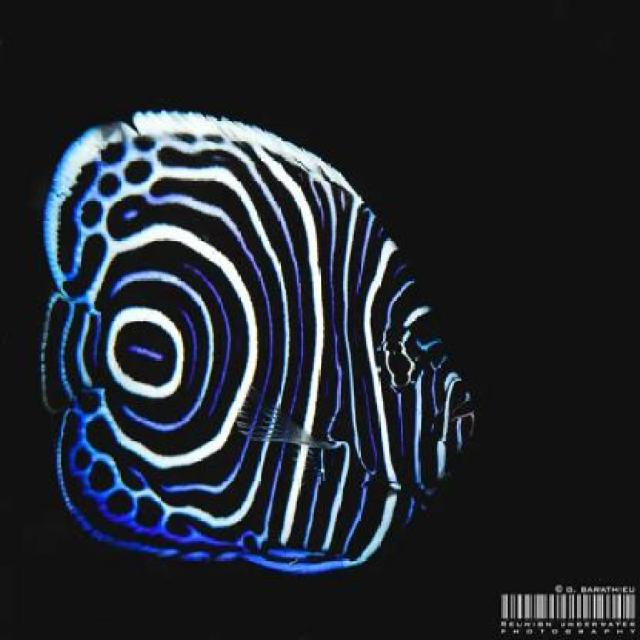AngelFish: (41, 108, 476, 574)
